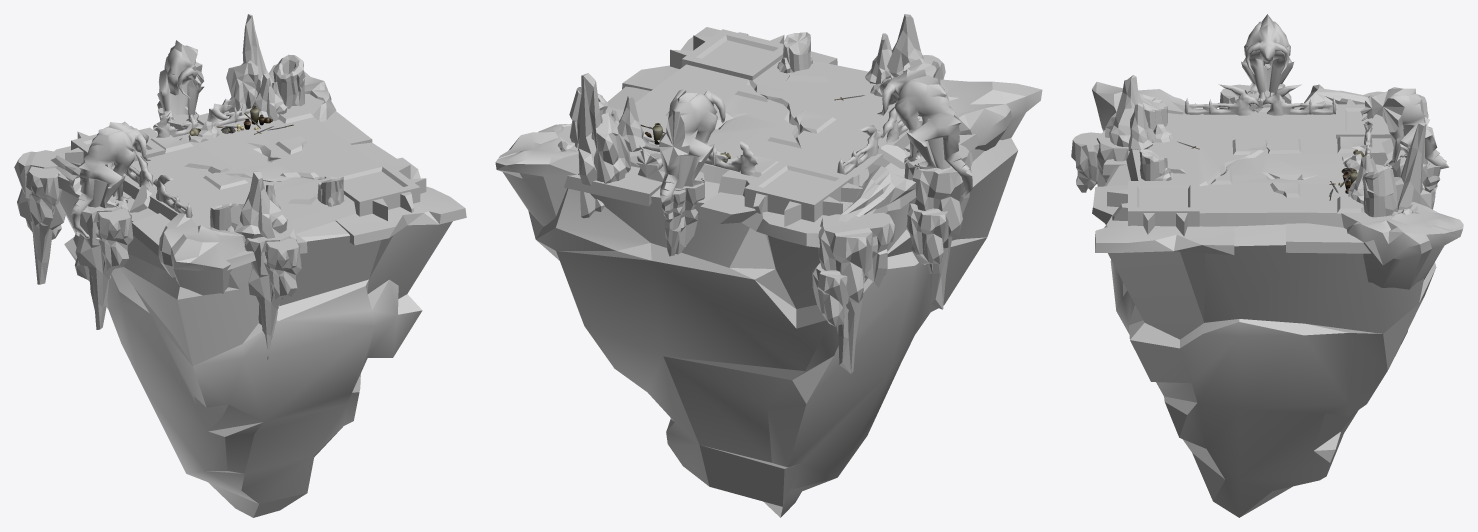
Rendered from E_Cell1L_R.fbx.
3 renders of one model, left to right at view 1: azimuth 30°, elevation 25°; view 2: azimuth 150°, elevation 25°; view 3: azimuth 270°, elevation 25°, orthographic. The views are drawn at different scales.
Parts seen in each view (by area): view 1: E_Cell1L_R; view 2: E_Cell1L_R; view 3: E_Cell1L_R.
Part boxes in pixels (x1,y1,x2,y2): E_Cell1L_R: (14,14,466,517); E_Cell1L_R: (495,14,1042,517); E_Cell1L_R: (1071,14,1463,517).
Size of the model in its own units: 29.11 by 35.69 by 29.84.
